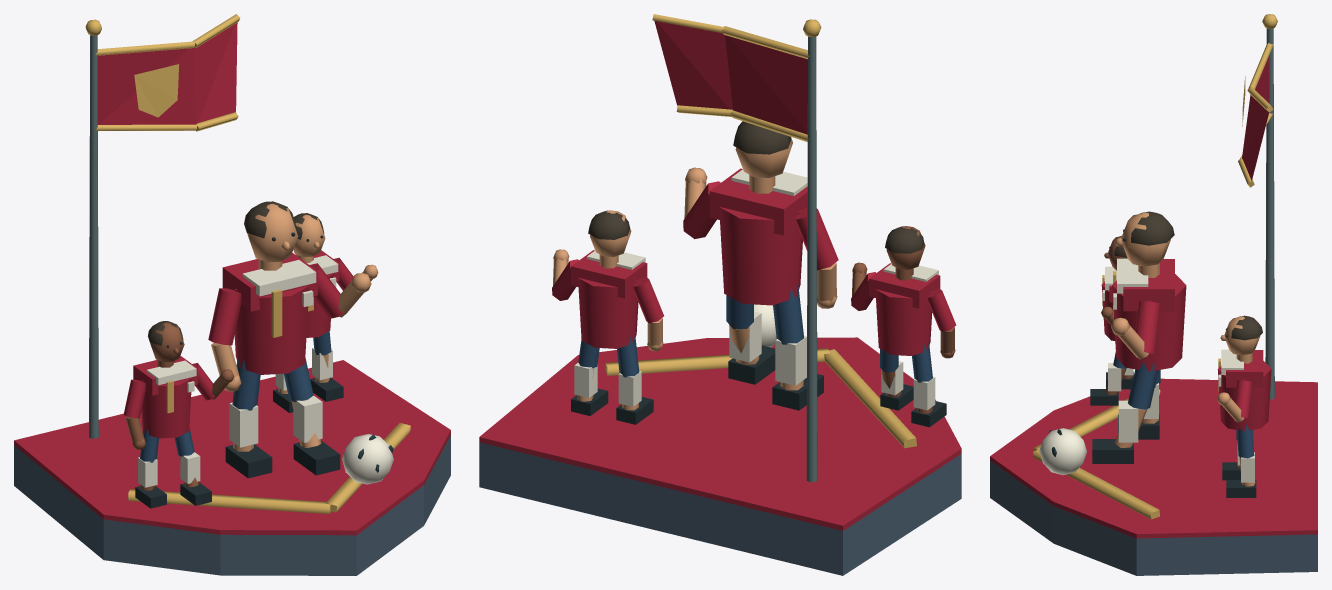
File: expedition.glb
3 views of the same model, side by side, from view 1: azimuth 30°, elevation 25°; view 2: azimuth 150°, elevation 25°; view 3: azimuth 270°, elevation 25° (orthographic). The views are drawn at different scales.
Parts seen in each view (by area): view 1: foundation_crimson, foundation_slate, team_banner_crimson, captain_torso_crimson, banner_pole_iron, base_chevron_gold, captain_socks_white, captain_boots_black, captain_arms_crimson, squad_left_torso_crimson, banner_trim_gold, football_white (+20 smaller); view 2: foundation_crimson, foundation_slate, team_banner_crimson, captain_torso_crimson, banner_pole_iron, base_chevron_gold, squad_right_torso_crimson, squad_left_torso_crimson, captain_shoulders_crimson, banner_trim_gold, captain_socks_white, captain_arms_crimson (+22 smaller); view 3: foundation_crimson, foundation_slate, captain_torso_crimson, banner_pole_iron, base_chevron_gold, football_white, team_banner_crimson, squad_right_torso_crimson, captain_shoulders_crimson, captain_boots_black, captain_head_skin, captain_socks_white (+14 smaller).
Boxes of the visible parts, x1,y1,x2,y2 form: foundation_crimson: [14, 360, 450, 535]; foundation_slate: [14, 435, 450, 575]; team_banner_crimson: [97, 22, 237, 124]; captain_torso_crimson: [234, 285, 309, 374]; banner_pole_iron: [89, 35, 98, 438]; base_chevron_gold: [128, 422, 410, 514]; captain_socks_white: [229, 395, 322, 447]; captain_boots_black: [225, 440, 340, 478]; captain_arms_crimson: [208, 263, 342, 345]; squad_left_torso_crimson: [141, 378, 191, 438]; banner_trim_gold: [95, 14, 240, 131]; football_white: [342, 434, 393, 484]; foundation_crimson: [479, 337, 961, 530]; foundation_slate: [479, 442, 961, 575]; team_banner_crimson: [654, 21, 807, 134]; captain_torso_crimson: [719, 207, 802, 305]; banner_pole_iron: [806, 36, 817, 482]; base_chevron_gold: [605, 348, 916, 448]; squad_right_torso_crimson: [578, 277, 638, 348]; squad_left_torso_crimson: [875, 289, 932, 355]; captain_shoulders_crimson: [709, 168, 807, 235]; banner_trim_gold: [652, 14, 809, 141]; captain_socks_white: [729, 311, 806, 385]; captain_arms_crimson: [683, 181, 838, 270]; foundation_crimson: [990, 378, 1317, 538]; foundation_slate: [990, 460, 1317, 575]; captain_torso_crimson: [1112, 274, 1186, 371]; banner_pole_iron: [1265, 28, 1274, 399]; base_chevron_gold: [1033, 389, 1160, 519]; football_white: [1039, 428, 1086, 475]; team_banner_crimson: [1242, 55, 1269, 180]; squad_right_torso_crimson: [1217, 361, 1271, 431]; captain_shoulders_crimson: [1123, 259, 1174, 311]; captain_boots_black: [1092, 414, 1159, 463]; captain_head_skin: [1121, 212, 1170, 266]; captain_socks_white: [1118, 383, 1158, 442].
Size of the model in its own units: 1 by 1.3 by 0.8879.
